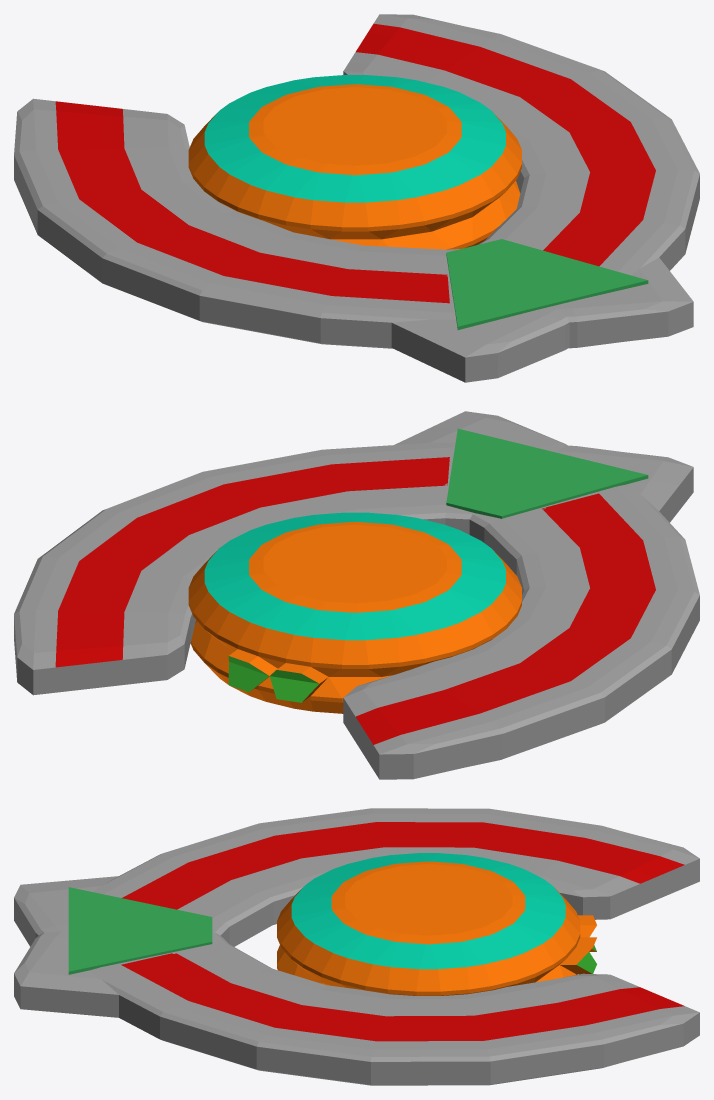
File: Enemy3.fbx
The picture shows the model from 3 angles, top to bottom: view 1: azimuth 30°, elevation 25°; view 2: azimuth 150°, elevation 25°; view 3: azimuth 270°, elevation 25°; orthographic projection. The views are drawn at different scales.
Visible parts, largest first — view 1: Cube, Cone, Plane; view 2: Cube, Cone, Plane; view 3: Cube, Cone, Plane.
Part boxes in pixels (box(x1,y1,x2,y2)): Cube: box(14, 14, 699, 382); Cone: box(188, 75, 521, 249); Plane: box(446, 239, 648, 329); Cube: box(14, 411, 699, 779); Cone: box(188, 512, 521, 713); Plane: box(446, 428, 648, 518); Cube: box(14, 808, 699, 1085); Cone: box(277, 853, 596, 995); Plane: box(68, 887, 212, 974).
Size of the model in its own units: 354 by 58.57 by 406.
